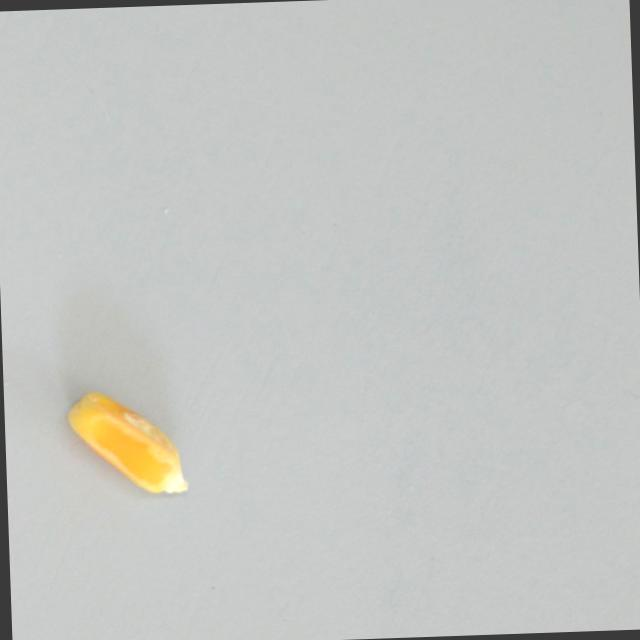entero: (66, 385, 189, 507)
